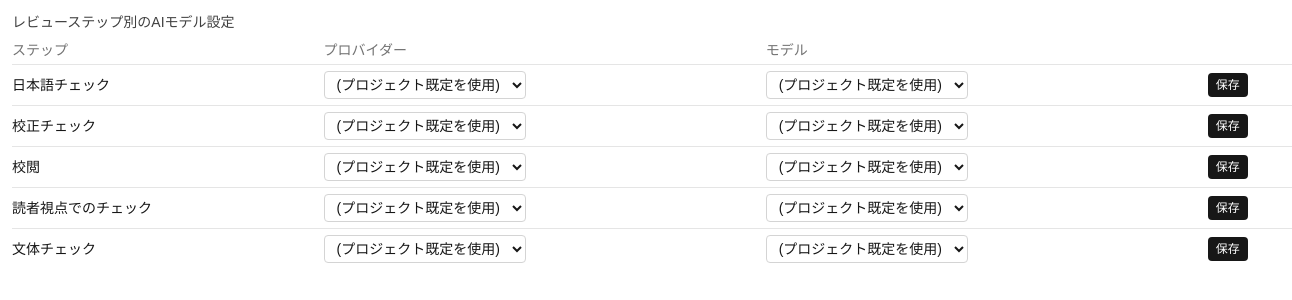
ReviewStepSettingsPanel › providerを切り替えると、切り替え先providerの取得状態で旨の表示が変わる
The image size is (1292, 300).
Expected: the text "モデル一覧をプロバイダーから取得できなかった" is not shown
Select "Claude (Anthropic)" in the dropdown named "日本語チェックのプロバイダー" at (425, 85), box 324,71 -> 526,99
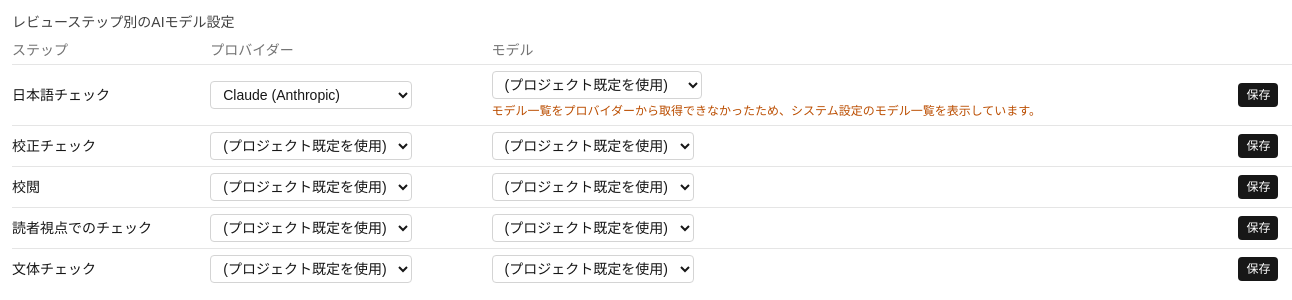
Now the text "モデル一覧をプロバイダーから取得できなかったため、システム設定のモデル一覧を表示しています。" is shown, box 492,104 -> 1041,118
